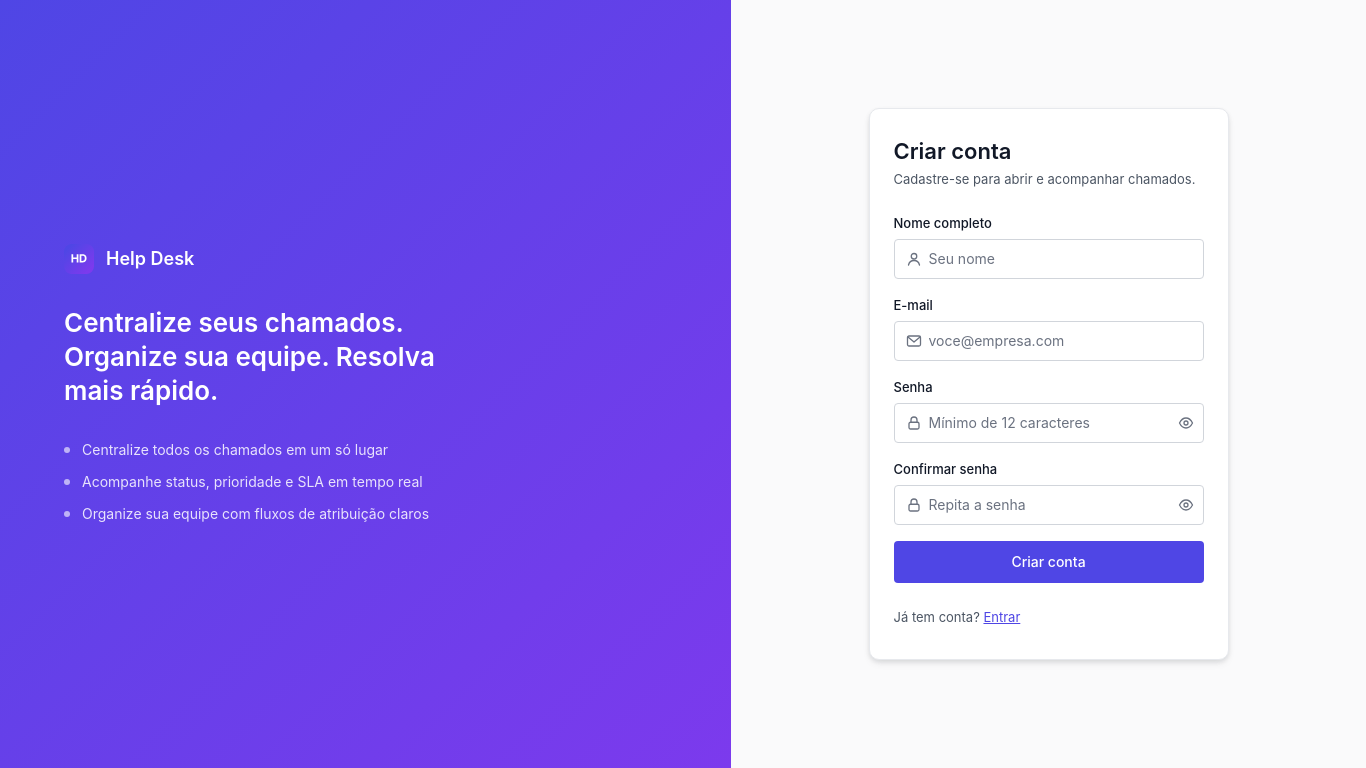
Test case: RegisterPage › rejeita quando a confirmação de senha não bate
The width and height of the screenshot is (1366, 768).
Type "Nova Pessoa" into the field labelled "Nome completo" at [1048, 259], box [894,239,1204,279]
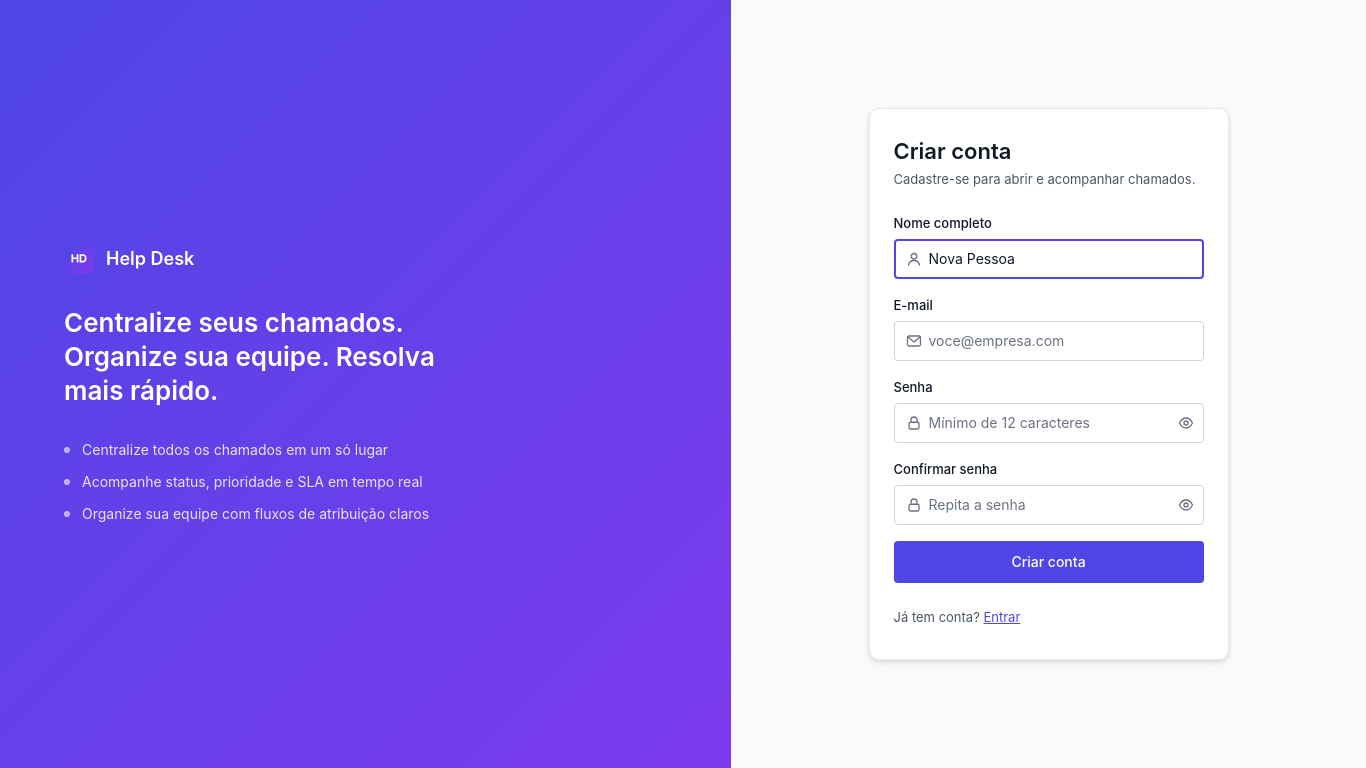
Type "nova.pessoa@helpdesk.com" into the field labelled "E-mail" at [1048, 341], box [894,321,1204,361]
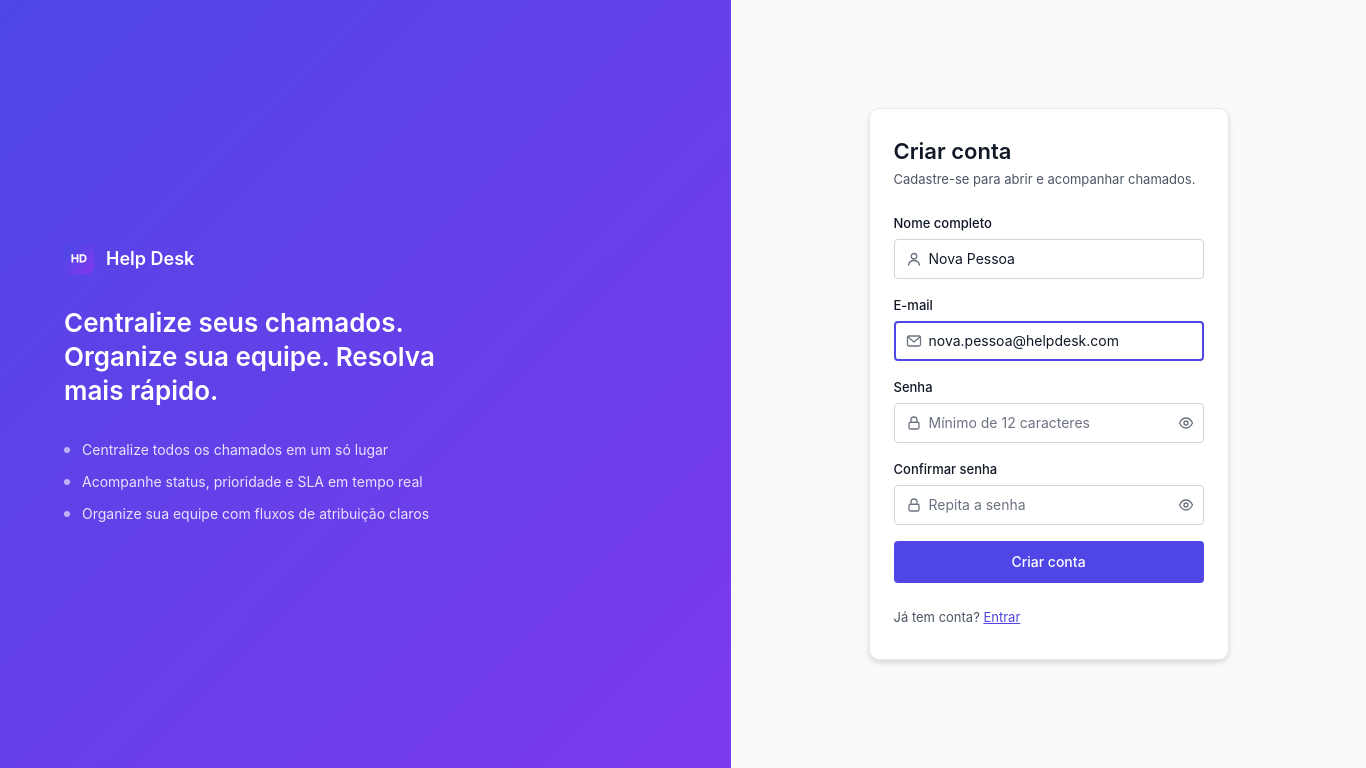
Type "senhaComDozeCaracteres" into the password field labelled "Senha" at [1048, 423], box [894,403,1204,443]
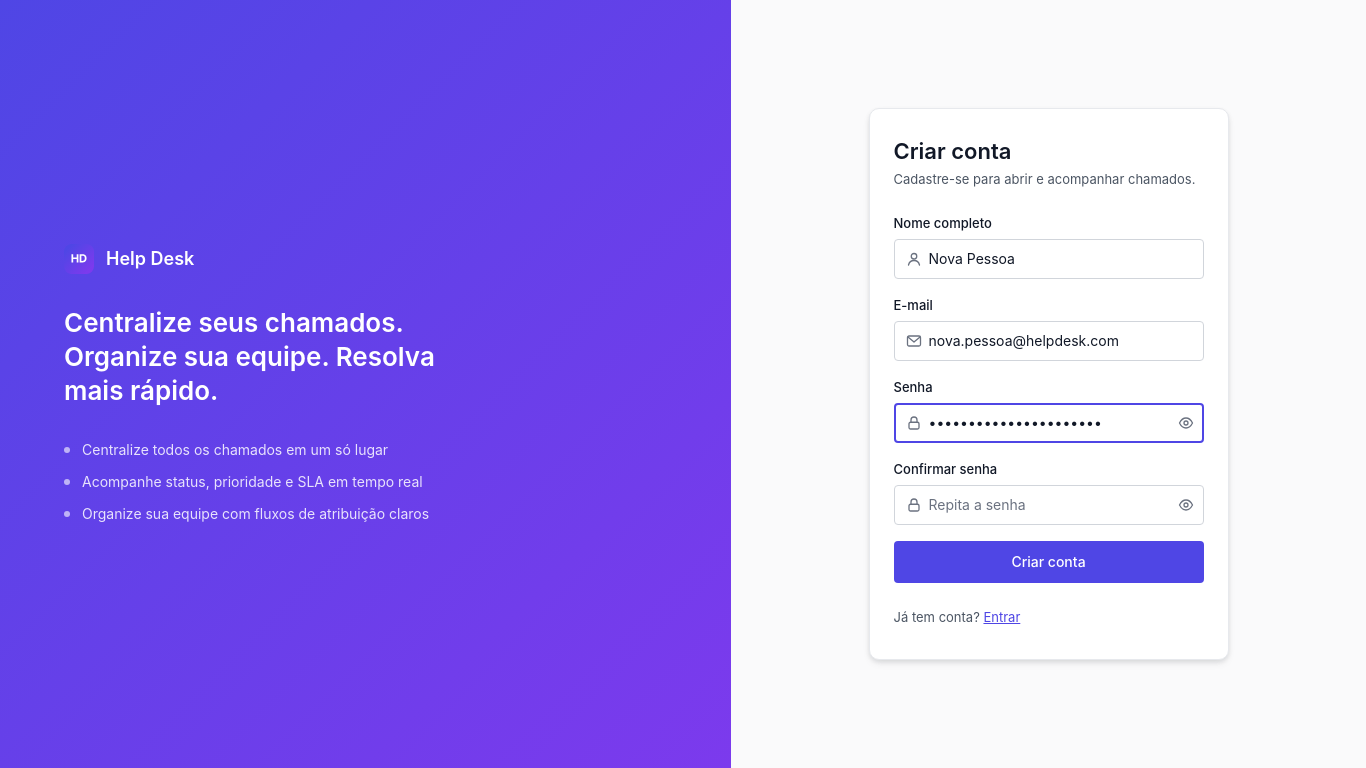
Type "outraSenhaDiferente" into the password field labelled "Confirmar senha" at [1048, 505], box [894,485,1204,525]
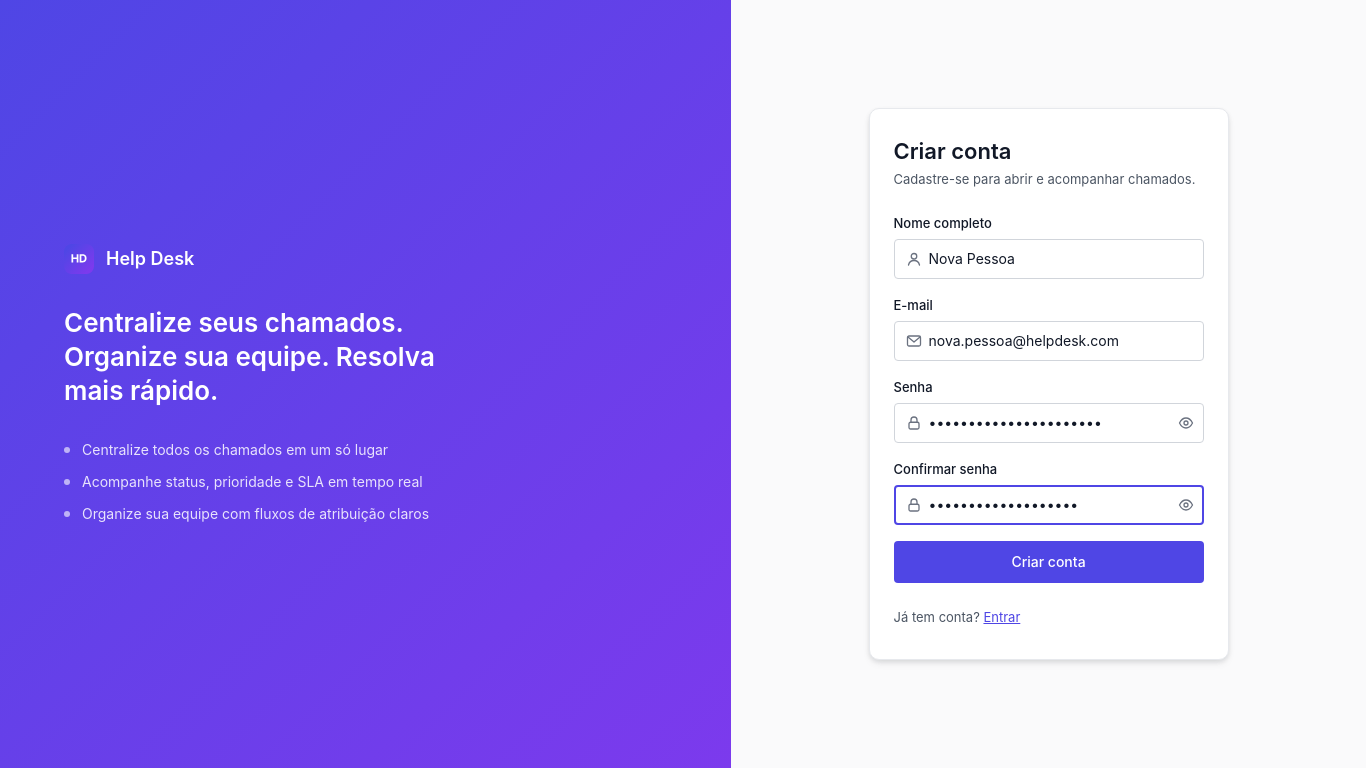
Click the button "Criar conta" at [1048, 562], box [894,541,1204,583]
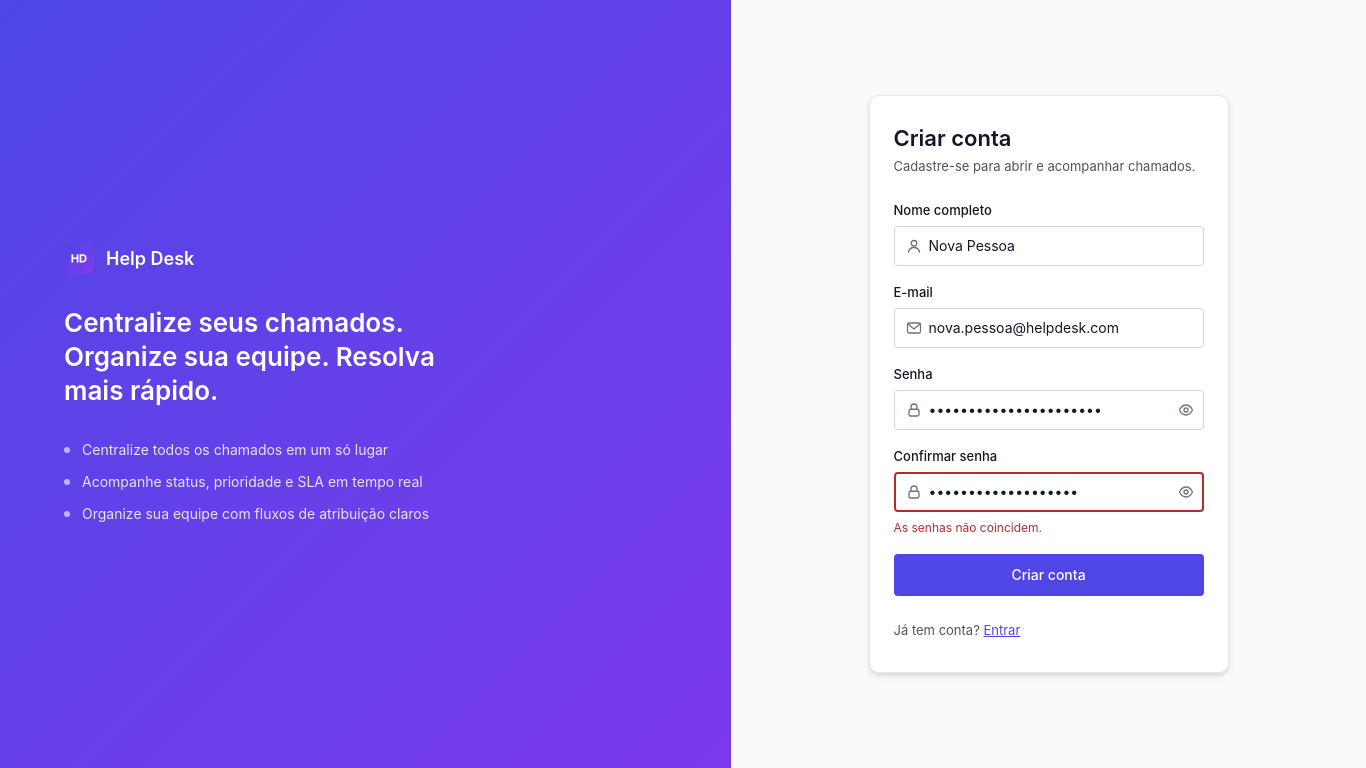
Check: the text "As senhas não coincidem." is shown, box [894,520,1042,535]
